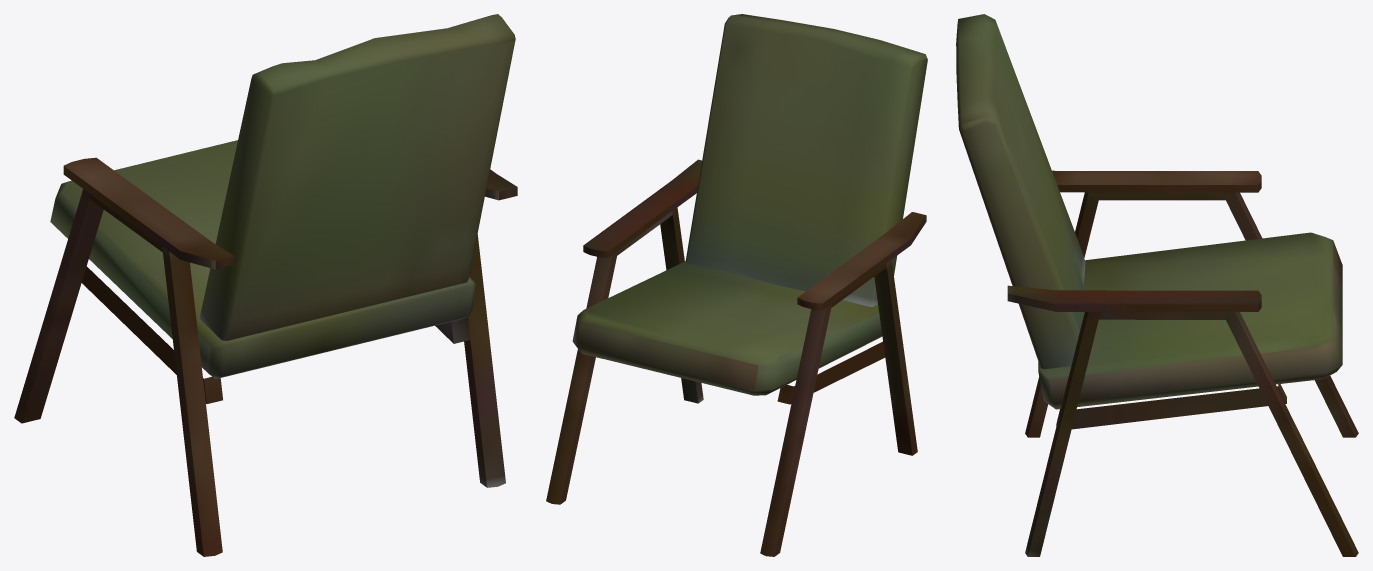
Rendered from residential_commercial_props.glb.
The picture shows the model from 3 angles, left to right: view 1: azimuth 30°, elevation 25°; view 2: azimuth 150°, elevation 25°; view 3: azimuth 270°, elevation 25°; orthographic projection. The views are drawn at different scales.
Parts seen in each view (by area): view 1: Armchair01a_LOD0; view 2: Armchair01a_LOD0; view 3: Armchair01a_LOD0.
Part boxes in pixels (left/top/right/bottom): Armchair01a_LOD0: left=14, top=14, right=517, bottom=556; Armchair01a_LOD0: left=546, top=14, right=927, bottom=556; Armchair01a_LOD0: left=956, top=14, right=1358, bottom=556.
Bounding box in the file's own units: 0.7178 × 1.09 × 0.9156.
Materials: 1 (1 with a texture image).
